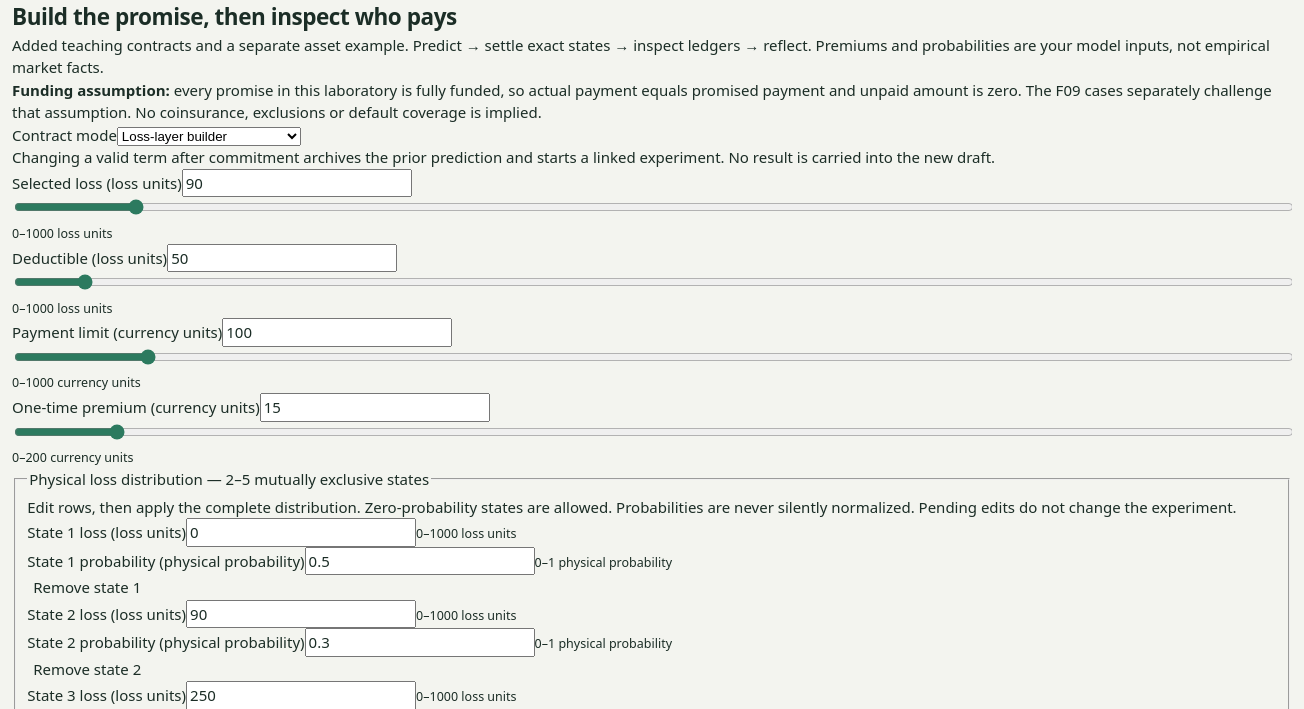
Test: contracts view with frozen root controller › chooses wording before reveal and demonstrates the0 versus60 promises
The width and height of the screenshot is (1304, 709).
Select "Contract wording challenge" in the dropdown labelled "Contract mode" at (209, 136), box [117, 127, 301, 146]
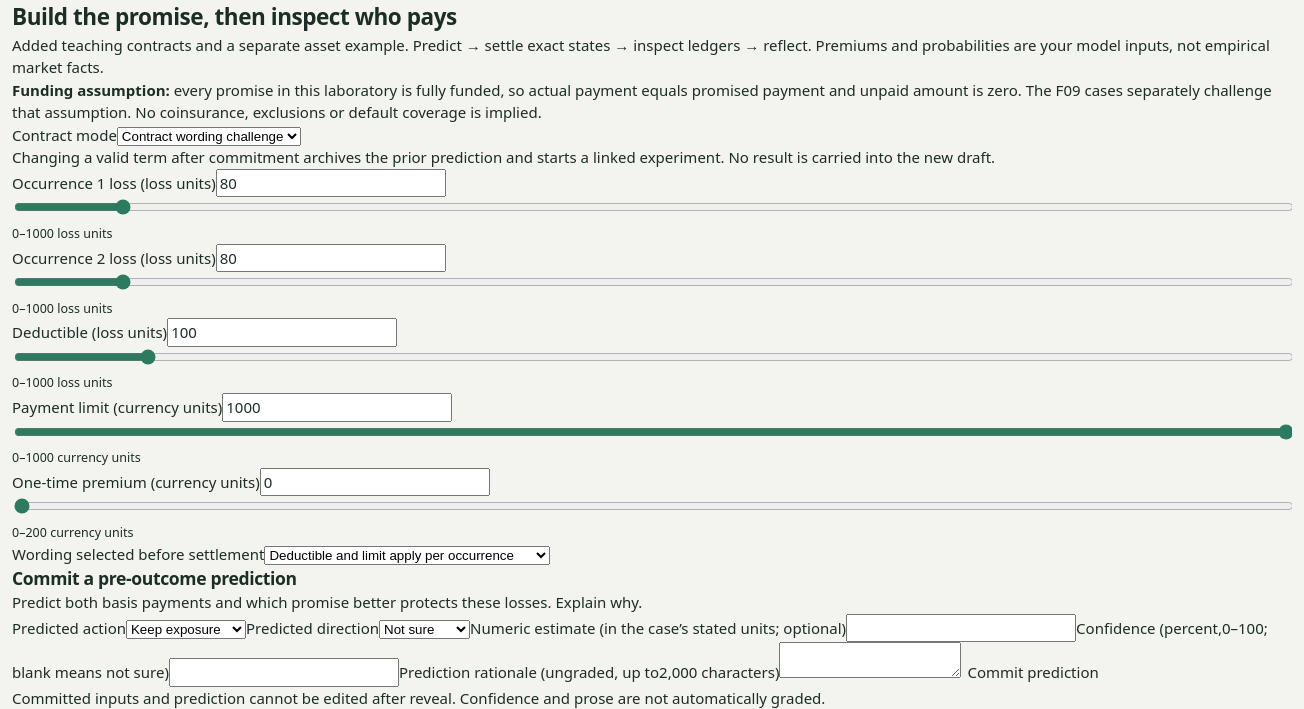
Select "Deductible and limit apply once to aggregate" in the dropdown labelled "Wording selected before settlement" at (407, 555), box [264, 546, 550, 564]
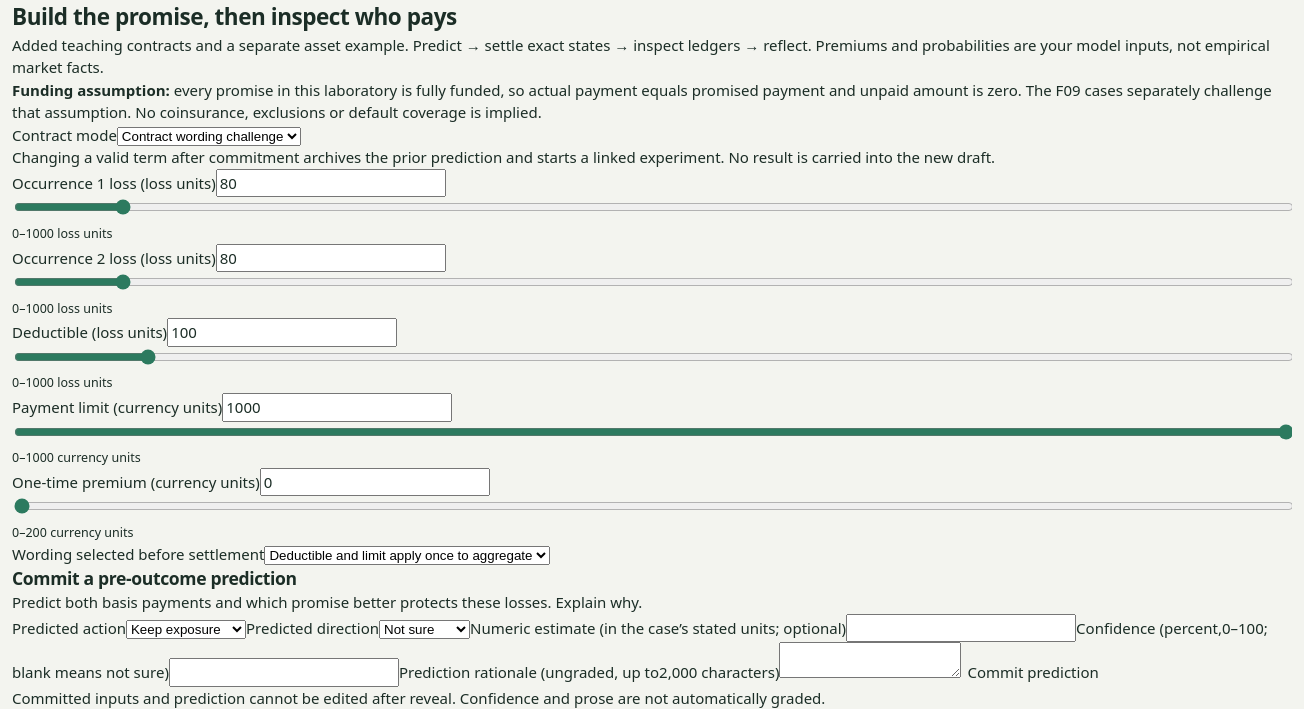
Type "I expect the deductible to attach before payment saturates; premium enters each profit state once." into the text box labelled "Prediction rationale (ungraded, up to2,000 characters)" at (870, 660), box [780, 642, 962, 678]
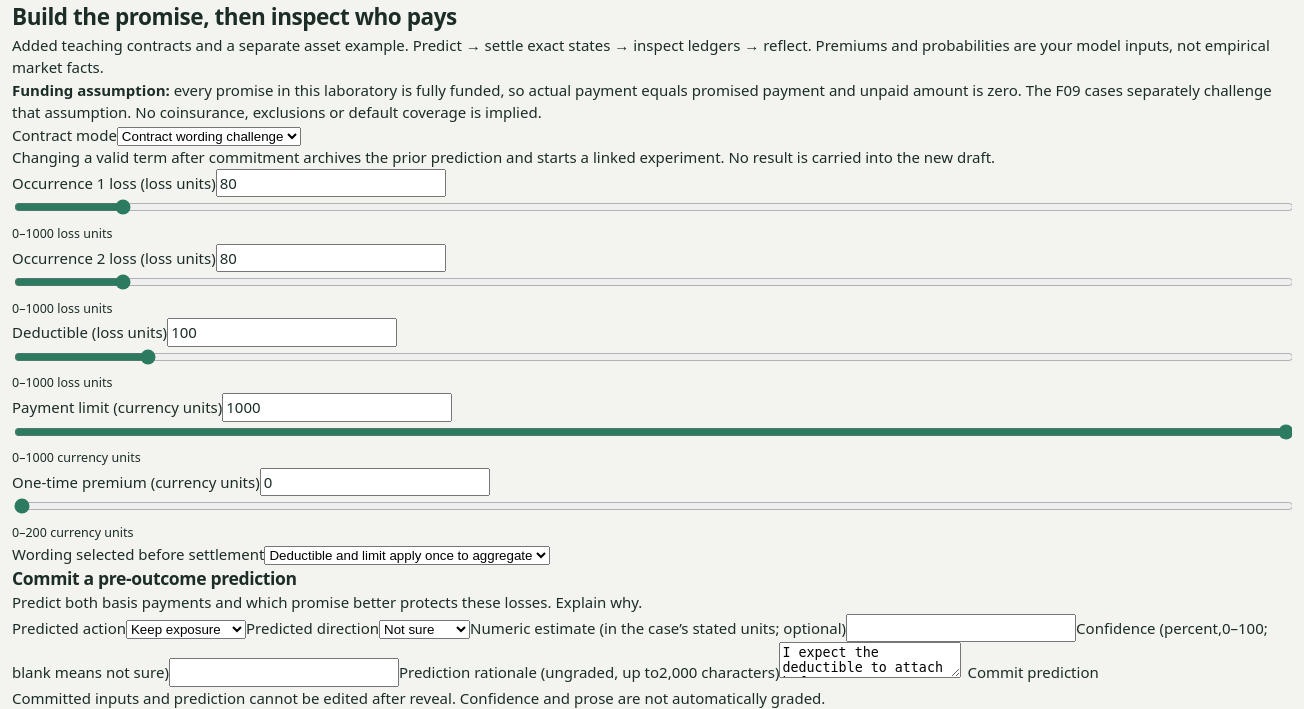
Type "40" into the number field labelled "Numeric estimate (in the case’s stated units; optional)" at (961, 628), box [846, 614, 1076, 642]
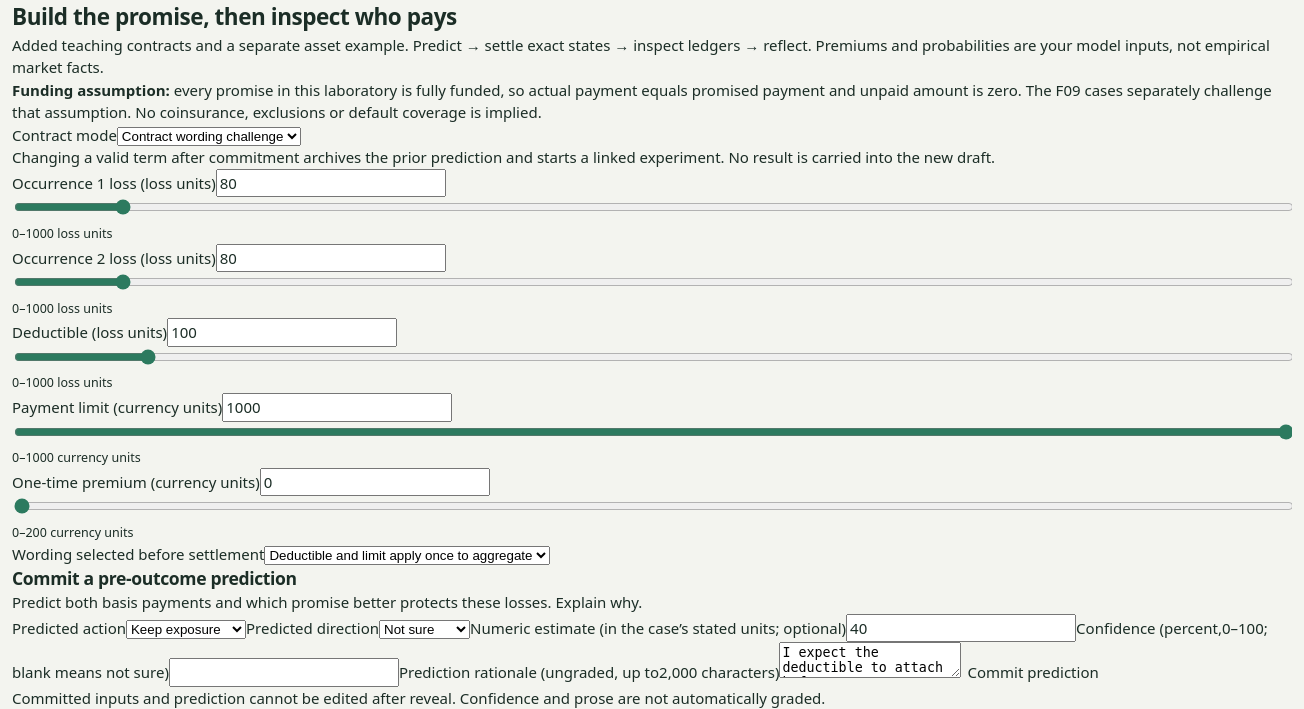
Click the button "Commit prediction" at (1033, 673), box [962, 660, 1105, 685]
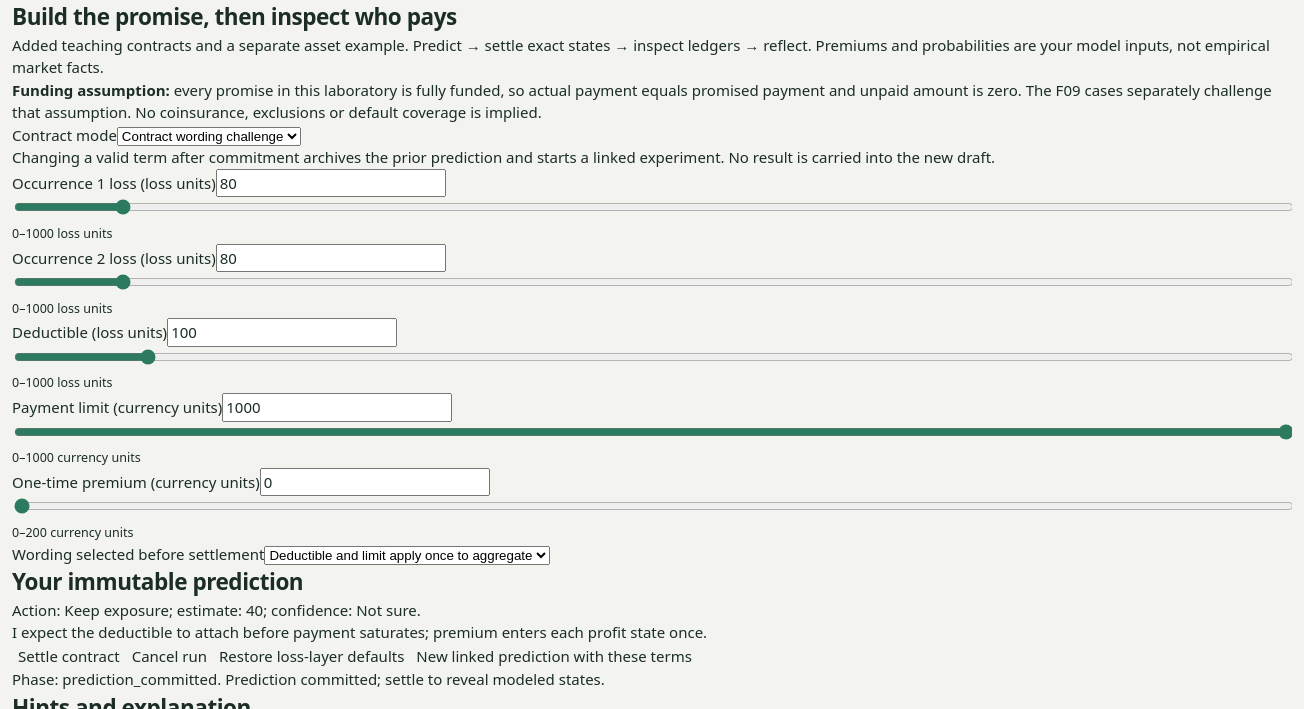
Click the button "Settle contract" at (69, 656), box [12, 644, 126, 668]
(page scrolled)
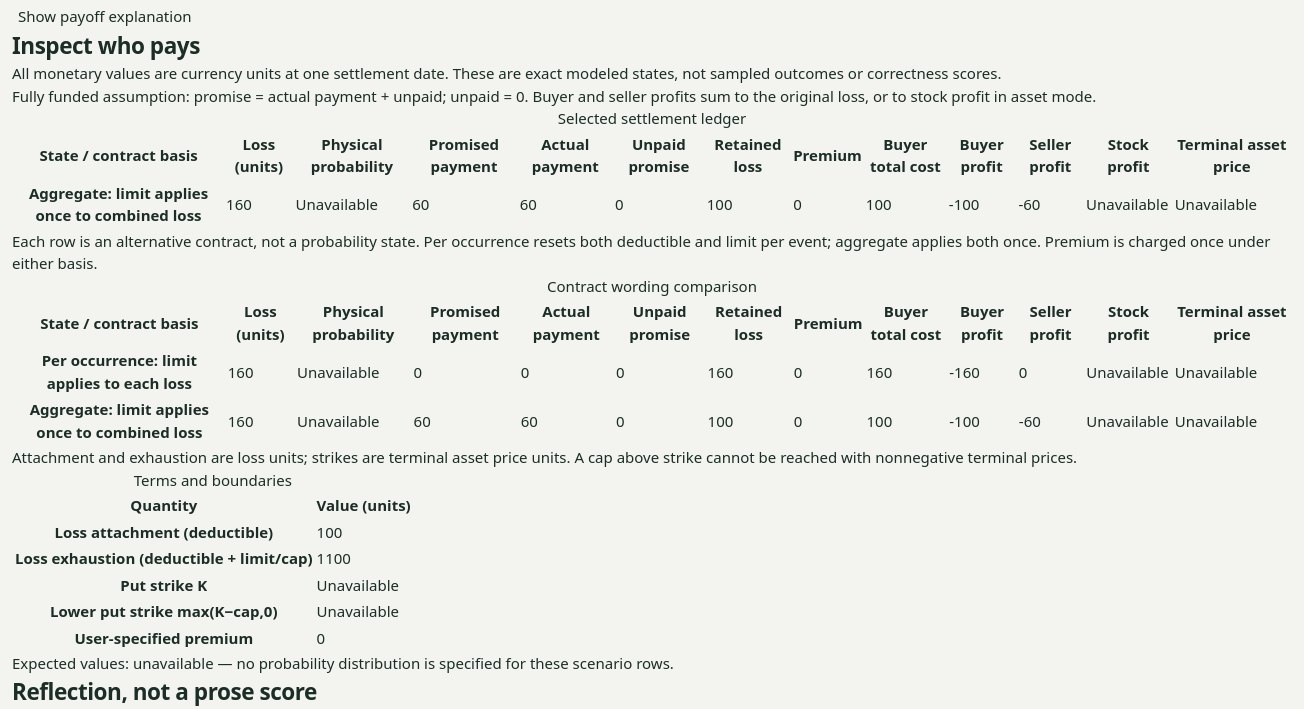
Result: the table "Selected settlement ledger" is shown at [12, 107, 1292, 230]
Result: the table "Contract wording comparison" is shown at [12, 275, 1292, 446]
